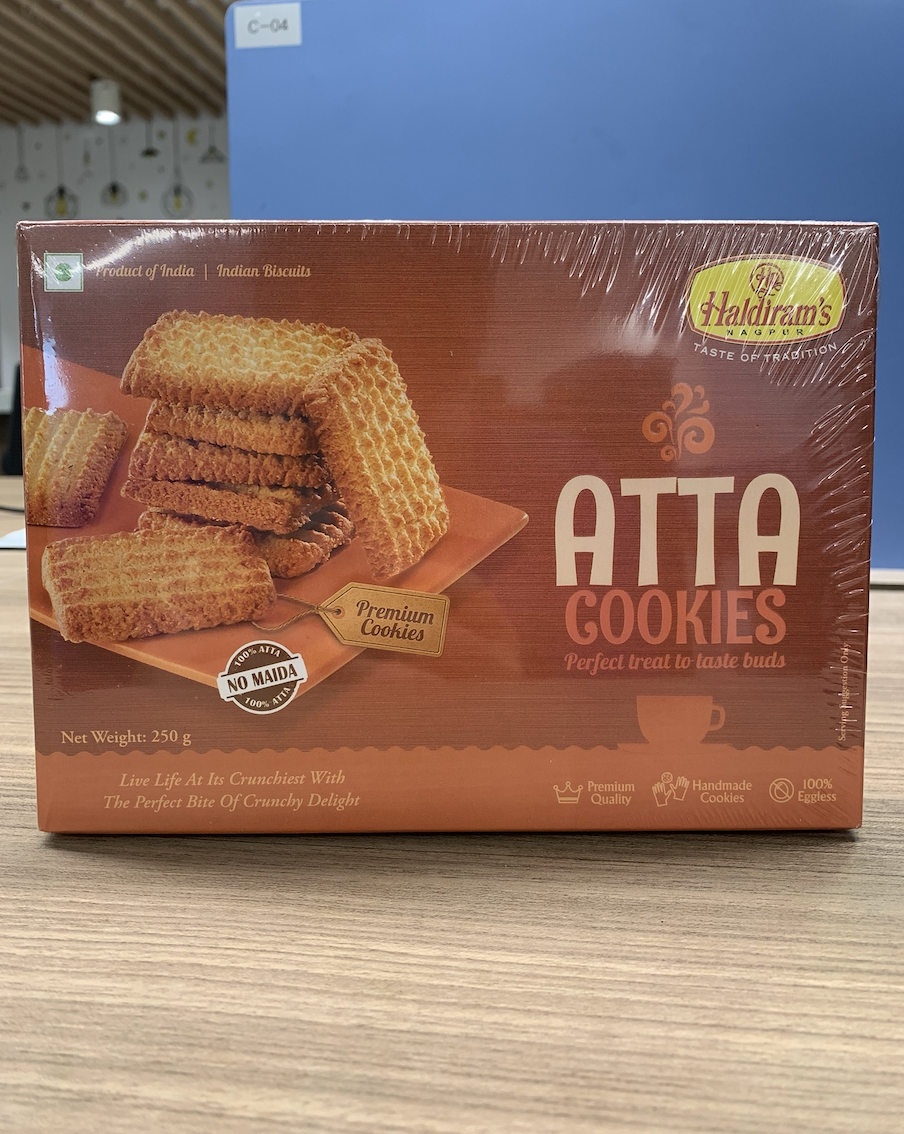cookies_200g-299g: (20, 218, 870, 824)
